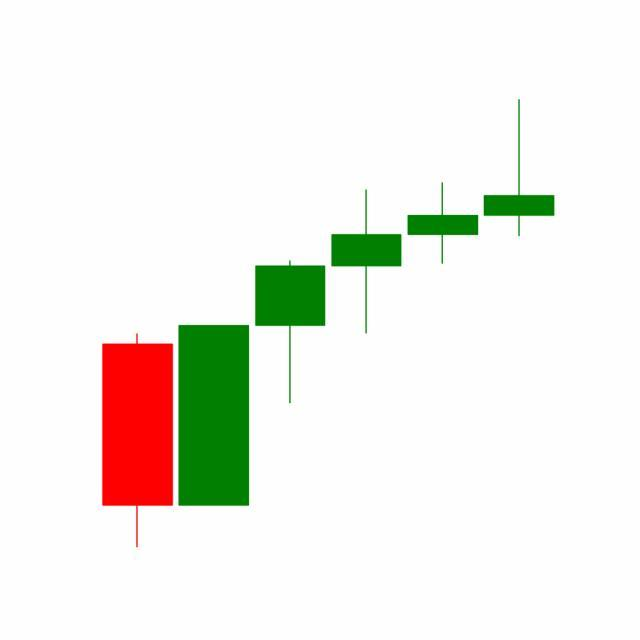Spinning Top: (404, 182, 482, 266)
